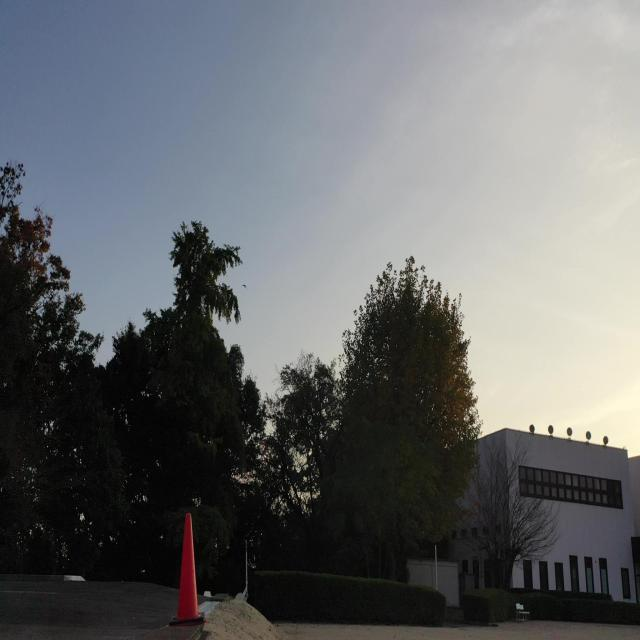Birds: (240, 280, 249, 292)
